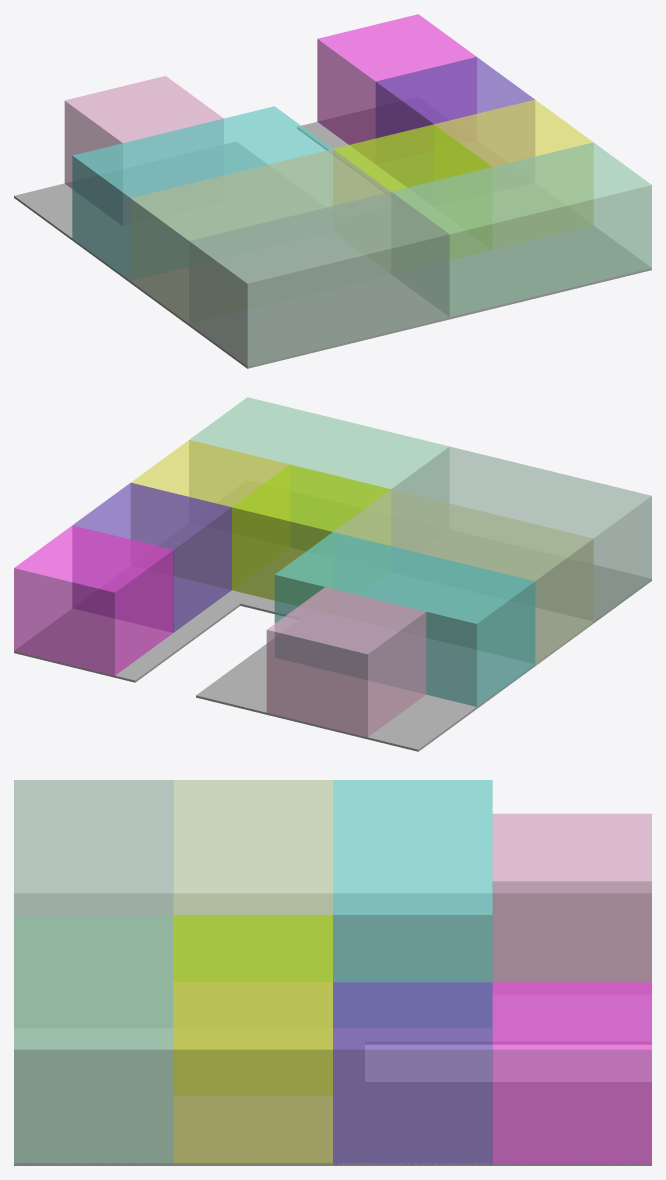
The model's file is adjacent.glb.
The picture shows the model from 3 angles, top to bottom: view 1: azimuth 30°, elevation 25°; view 2: azimuth 150°, elevation 25°; view 3: azimuth 270°, elevation 25°; orthographic projection. The views are drawn at different scales.
Visible parts, largest first — view 1: 3729_mesh, 3726_mesh, 3735_mesh, 3732_mesh, 3738_mesh, 3747_mesh, 3753_mesh, 3744_mesh, 3750_mesh, 3741_mesh; view 2: 3726_mesh, 3738_mesh, 3732_mesh, 3729_mesh, 3735_mesh, 3747_mesh, 3753_mesh, 3750_mesh, 3744_mesh, 3741_mesh; view 3: 3726_mesh, 3735_mesh, 3738_mesh, 3729_mesh, 3732_mesh, 3753_mesh, 3750_mesh, 3744_mesh, 3747_mesh, 3741_mesh.
Boxes of the visible parts, x1,y1,x2,y2 form: 3729_mesh: (189, 191, 449, 367); 3726_mesh: (14, 108, 651, 368); 3735_mesh: (392, 142, 651, 318); 3732_mesh: (130, 149, 390, 323); 3738_mesh: (72, 106, 332, 280); 3747_mesh: (64, 76, 223, 225); 3753_mesh: (317, 14, 476, 163); 3744_mesh: (434, 99, 593, 248); 3750_mesh: (375, 57, 534, 186); 3741_mesh: (333, 124, 491, 259); 3726_mesh: (14, 547, 651, 751); 3738_mesh: (274, 532, 535, 706); 3732_mesh: (333, 489, 593, 665); 3729_mesh: (391, 446, 651, 622); 3735_mesh: (189, 397, 449, 550); 3747_mesh: (266, 587, 426, 738); 3753_mesh: (14, 525, 173, 676); 3750_mesh: (72, 482, 231, 632); 3744_mesh: (131, 440, 289, 589); 3741_mesh: (232, 464, 390, 605); 3726_mesh: (14, 893, 651, 1165); 3735_mesh: (14, 915, 173, 1165); 3738_mesh: (333, 780, 492, 1027); 3729_mesh: (14, 780, 173, 1027); 3732_mesh: (173, 780, 332, 981); 3753_mesh: (492, 982, 651, 1165); 3750_mesh: (333, 982, 492, 1165); 3744_mesh: (173, 982, 332, 1165); 3747_mesh: (492, 813, 651, 993); 3741_mesh: (173, 915, 332, 1094).
Bounding box in the file's own units: 20 × 4.02 × 20.
